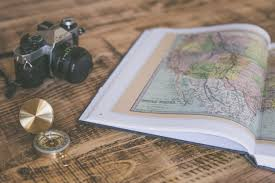Open Book: (86, 27, 275, 172)
